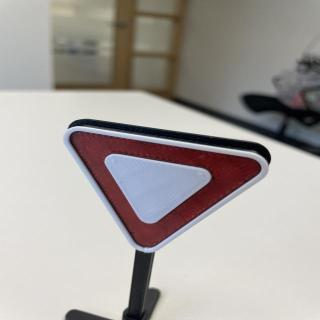sign_yield: (62, 120, 270, 260)
